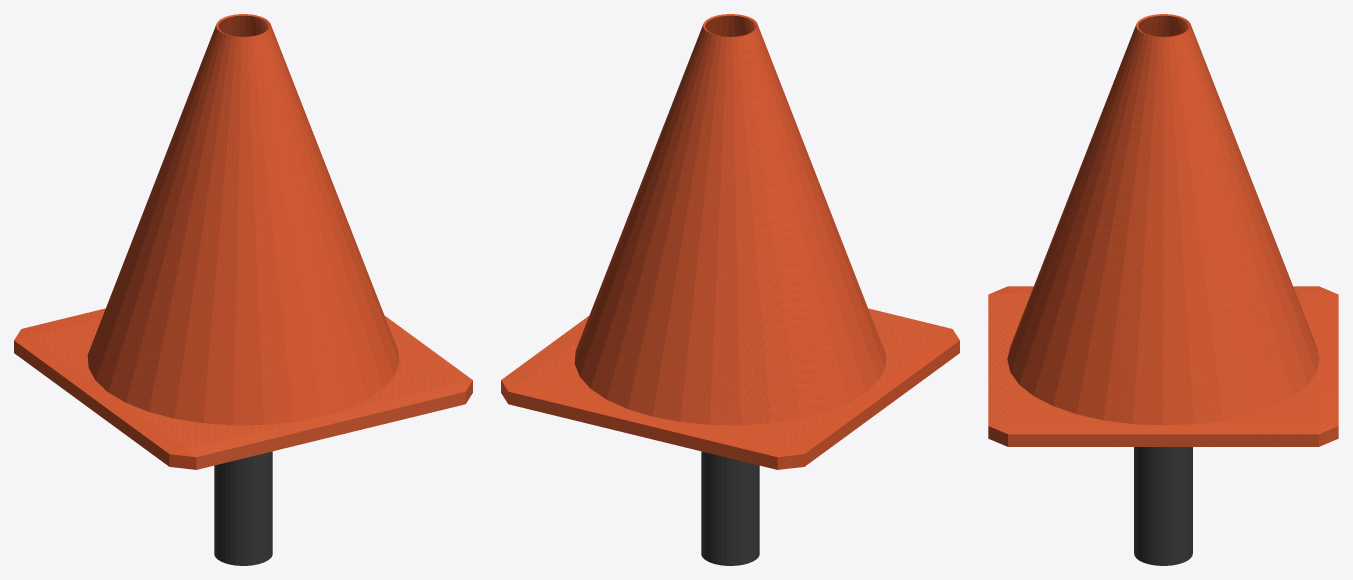
Rendered from conito.fbx.
The picture shows the model from 3 angles, left to right: view 1: azimuth 30°, elevation 25°; view 2: azimuth 150°, elevation 25°; view 3: azimuth 270°, elevation 25°; orthographic projection.
Visible parts, largest first — view 1: Cone, Cube, Cylinder; view 2: Cone, Cube, Cylinder; view 3: Cone, Cube, Cylinder.
Part boxes in pixels (box(x1,y1,x2,y2)): Cone: box(87, 14, 399, 425); Cube: box(14, 308, 472, 469); Cylinder: box(214, 451, 272, 565); Cone: box(574, 14, 886, 425); Cube: box(501, 308, 959, 469); Cylinder: box(701, 451, 759, 565); Cone: box(1007, 14, 1319, 425); Cube: box(988, 286, 1338, 446); Cylinder: box(1134, 447, 1192, 565).
Bounding box in the file's own units: 589 × 979 × 589.
Materials: 3 (2 with a texture image).
